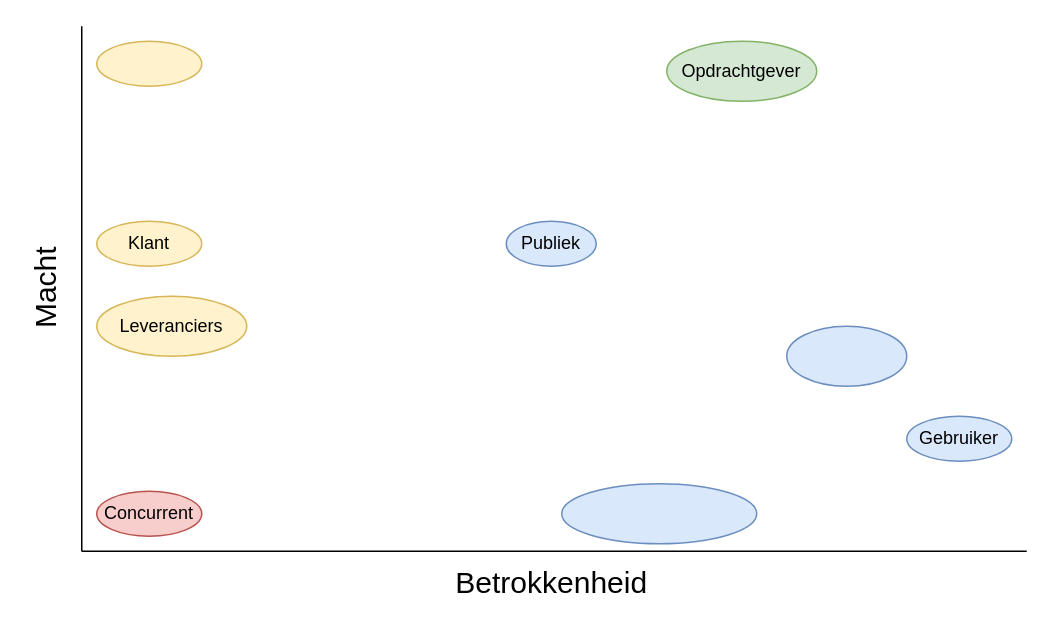
Some shapes in this 1055 by 626 pixel diagram are drawn without their labels. The box of each missing label's shape, as (x1, y1, x2, y2) in pixels:
Onderhoudspersoneel: (560, 482, 757, 544)
Overheid: (95, 40, 202, 86)
Werknemers: (785, 325, 907, 386)
